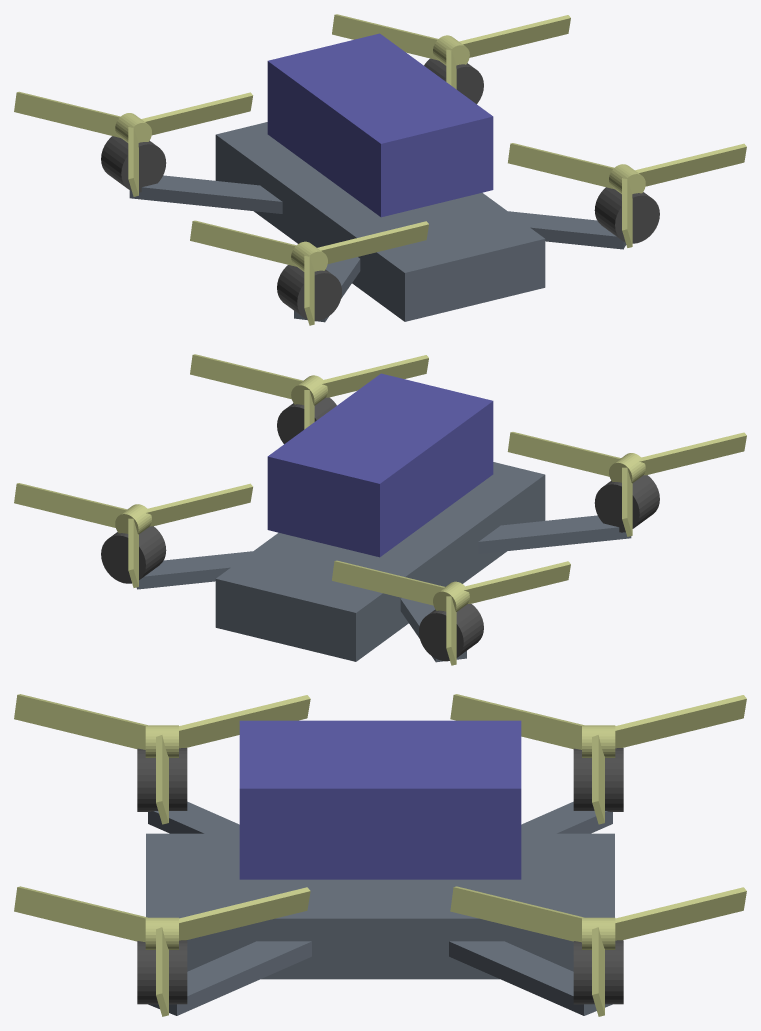
File: Armattan Marmotte.glb
The picture shows the model from 3 angles, top to bottom: view 1: azimuth 30°, elevation 25°; view 2: azimuth 150°, elevation 25°; view 3: azimuth 270°, elevation 25°; orthographic projection. The views are drawn at different scales.
Parts seen in each view (by area): view 1: battery, frame_body, prop_0, prop_2, prop_3, prop_1, arm_3, arm_0, motor_2, motor_0, motor_3, motor_1 (+1 smaller); view 2: battery, frame_body, prop_2, prop_3, prop_1, prop_0, arm_2, arm_1, motor_3, motor_1, motor_2, motor_0 (+1 smaller); view 3: battery, frame_body, prop_0, prop_1, prop_2, prop_3, arm_1, arm_0, motor_1, motor_0, motor_3, motor_2 (+2 smaller).
Boxes of the visible parts, left/top/right/bottom form: battery: left=267, top=33, right=493, bottom=217; frame_body: left=215, top=122, right=545, bottom=321; prop_0: left=508, top=143, right=746, bottom=247; prop_2: left=190, top=220, right=428, bottom=325; prop_3: left=14, top=91, right=253, bottom=196; prop_1: left=332, top=14, right=570, bottom=89; arm_3: left=129, top=175, right=282, bottom=213; arm_0: left=508, top=211, right=626, bottom=249; motor_2: left=277, top=265, right=341, bottom=321; motor_0: left=594, top=187, right=659, bottom=243; motor_3: left=101, top=136, right=166, bottom=192; motor_1: left=424, top=58, right=483, bottom=103; battery: left=267, top=373, right=493, bottom=557; frame_body: left=215, top=462, right=545, bottom=661; prop_2: left=507, top=432, right=746, bottom=536; prop_3: left=332, top=560, right=570, bottom=665; prop_1: left=14, top=483, right=252, bottom=587; prop_0: left=190, top=354, right=428, bottom=429; arm_2: left=478, top=515, right=631, bottom=553; arm_1: left=136, top=551, right=252, bottom=589; motor_3: left=419, top=604, right=483, bottom=661; motor_1: left=101, top=526, right=166, bottom=583; motor_2: left=594, top=475, right=659, bottom=532; motor_0: left=277, top=397, right=336, bottom=443; battery: left=239, top=720, right=521, bottom=879; frame_body: left=146, top=833, right=614, bottom=979; prop_0: left=14, top=886, right=310, bottom=1016; prop_1: left=450, top=886, right=746, bottom=1016; prop_2: left=14, top=694, right=310, bottom=824; prop_3: left=450, top=694, right=746, bottom=824; arm_1: left=449, top=941, right=612, bottom=1015; arm_0: left=148, top=941, right=311, bottom=1015; motor_1: left=573, top=940, right=623, bottom=1004; motor_0: left=137, top=940, right=187, bottom=1004; motor_3: left=573, top=748, right=623, bottom=811; motor_2: left=137, top=748, right=187, bottom=811.
Size of the model in its own units: 0.2125 by 0.06 by 0.2187.
